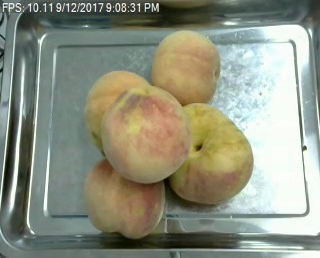Peach: (156, 102, 255, 204), (101, 85, 191, 181), (83, 162, 166, 238), (152, 28, 220, 106)
